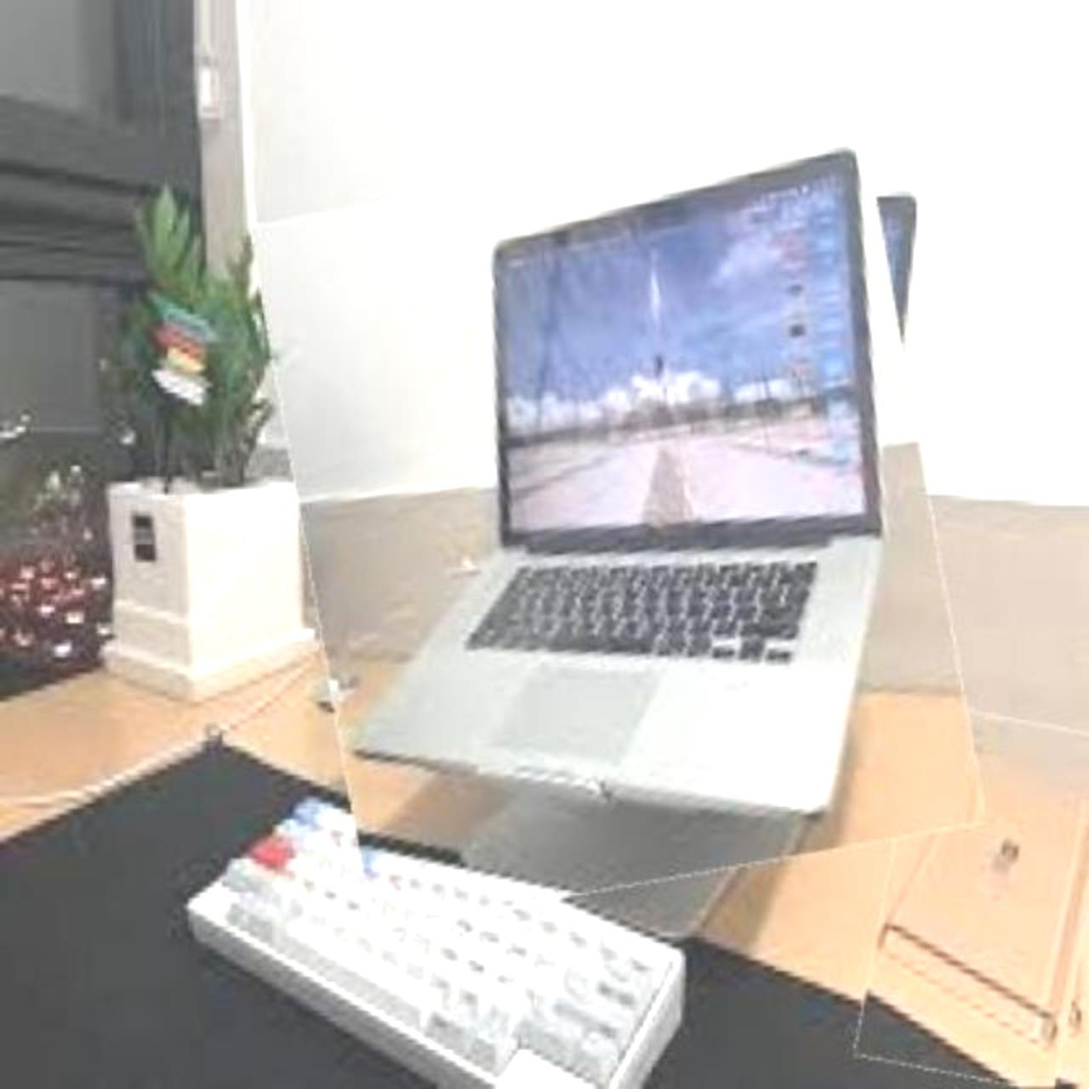laptop: (277, 144, 958, 904)
